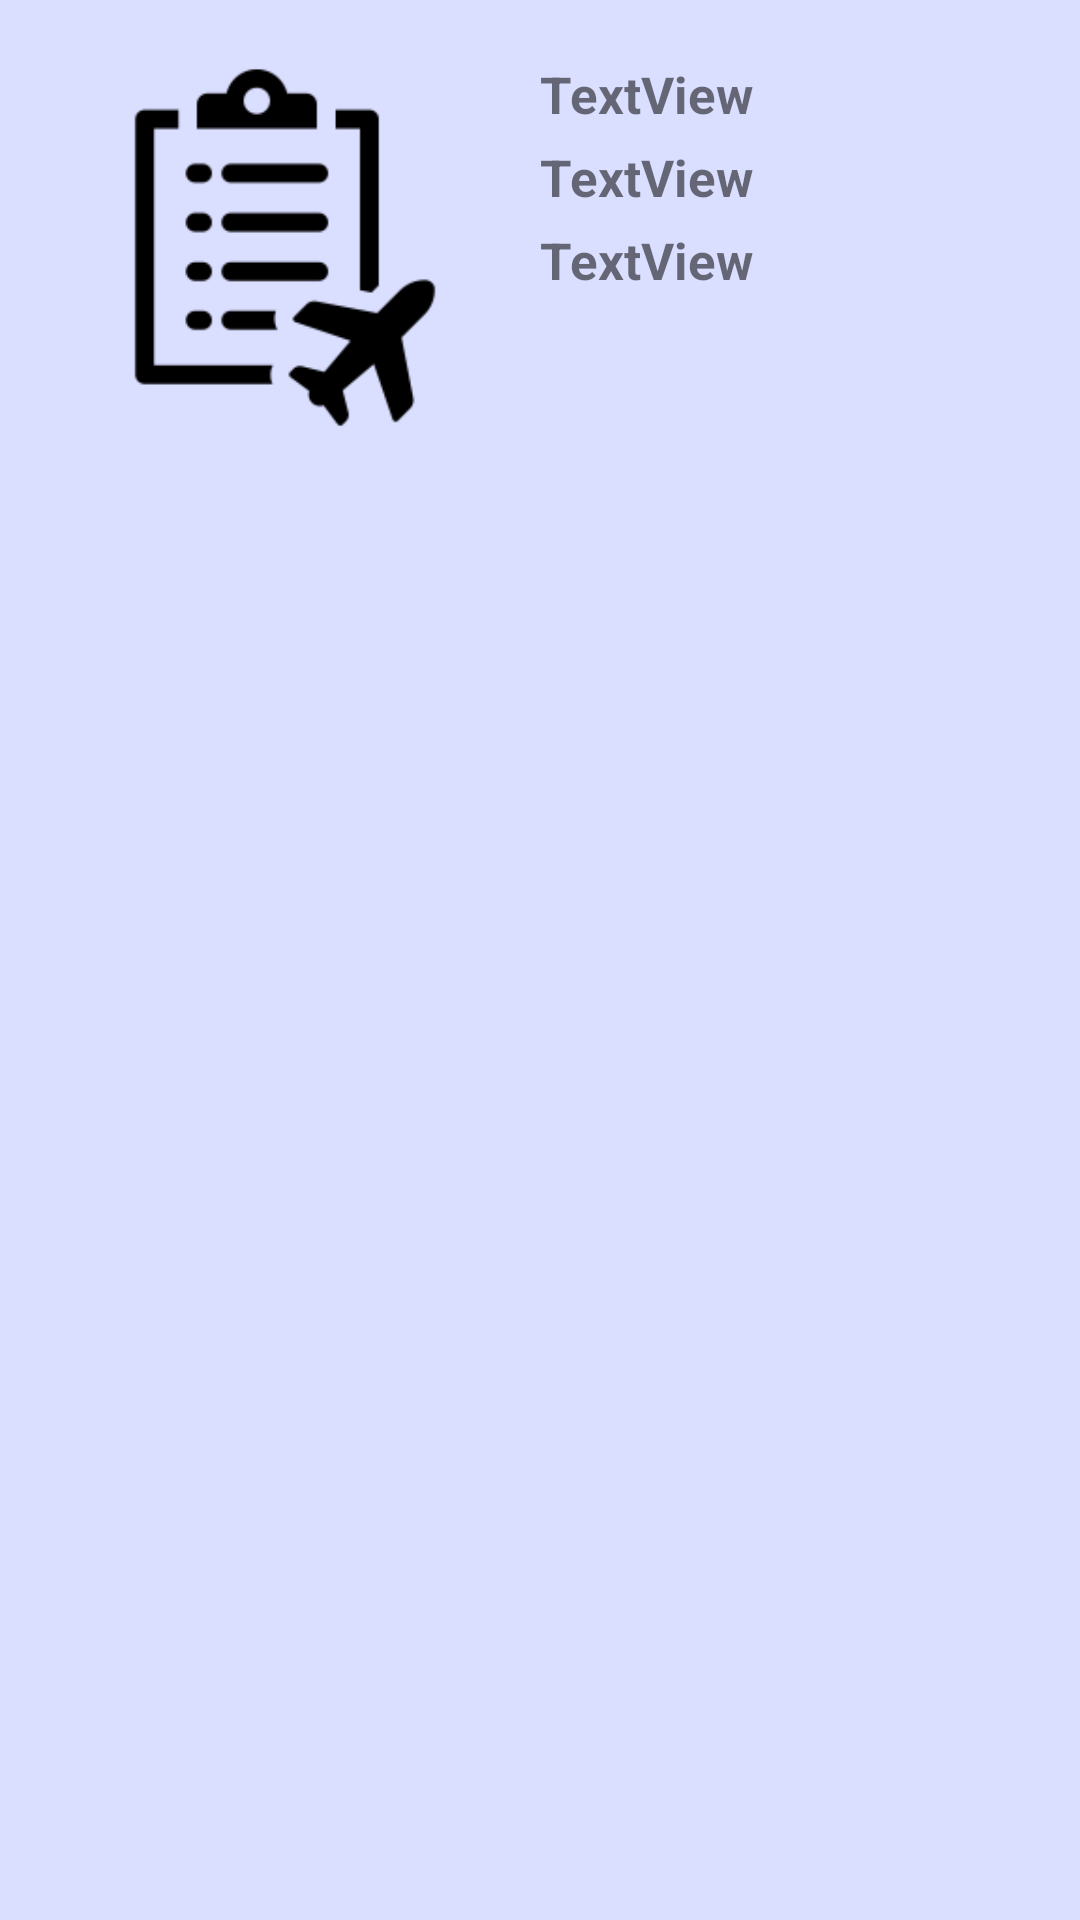

Icons on this 1080w x 1920h Android screen, each with its box as (x1, y1, x2, y2):
itinerary: (134, 69, 436, 426)
